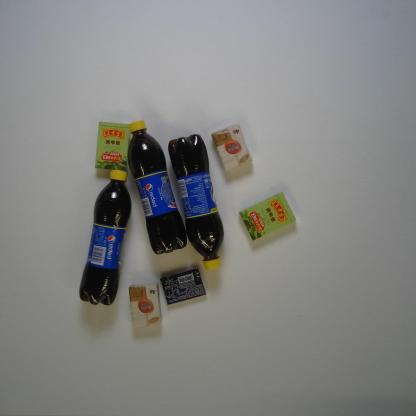Candy: (238, 191, 297, 241), (94, 120, 131, 172)
Drink: (126, 119, 188, 256), (168, 132, 225, 271), (78, 169, 133, 307)
Gum: (160, 266, 206, 306)
Tissue: (211, 122, 253, 172), (128, 282, 163, 328)
